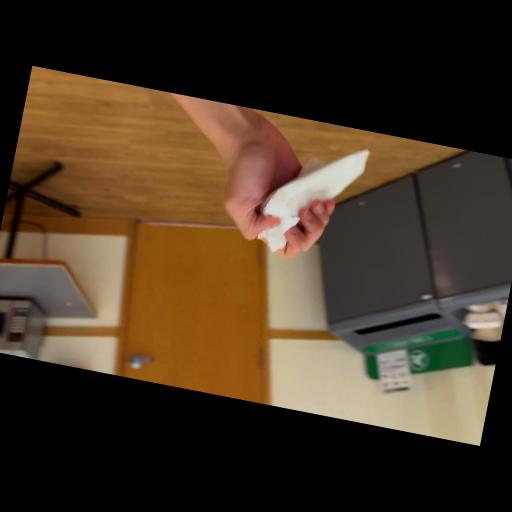napkin: (242, 125, 388, 268)
